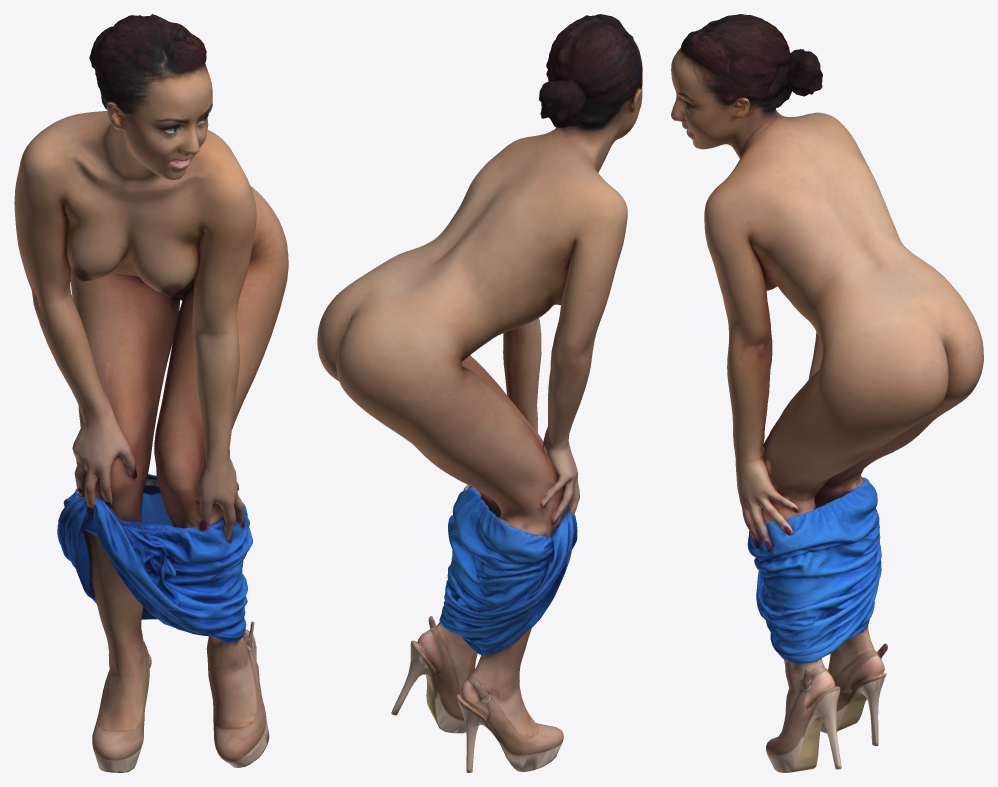
Rendered from kayla_01.glb.
3 views of the same model, side by side, from view 1: azimuth 30°, elevation 25°; view 2: azimuth 150°, elevation 25°; view 3: azimuth 270°, elevation 25° (orthographic). The views are drawn at different scales.
Parts seen in each view (by area): view 1: 21_LOD2_0_3; view 2: 21_LOD2_0_3; view 3: 21_LOD2_0_3.
Part boxes in pixels (x1,y1,x2,y2): 21_LOD2_0_3: (14, 14, 288, 772); 21_LOD2_0_3: (317, 14, 642, 772); 21_LOD2_0_3: (671, 14, 983, 772).
Bounding box in the file's own units: 0.8929 × 2.35 × 0.9485.
1 material, 1 textured.
